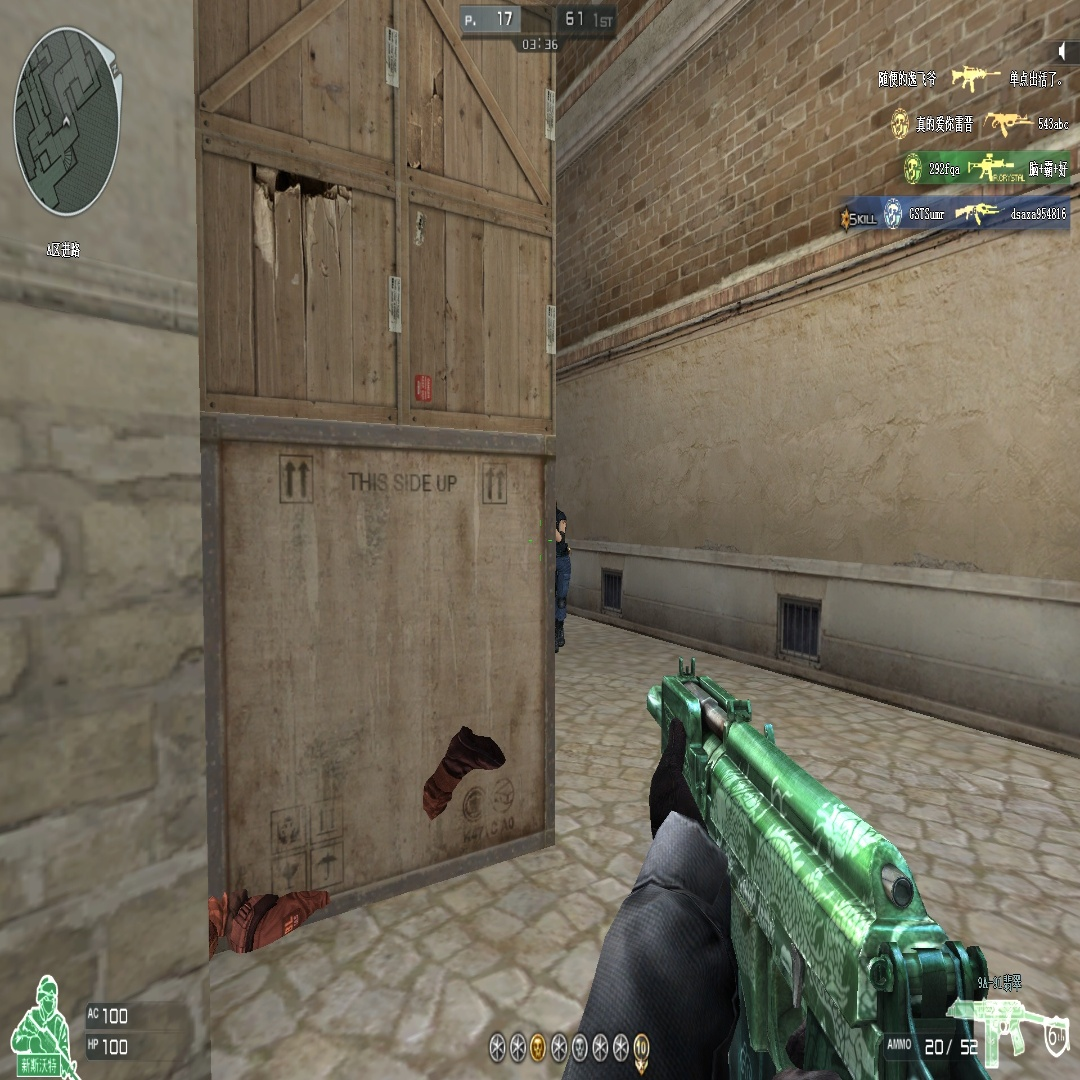p: (554, 503, 572, 654)
